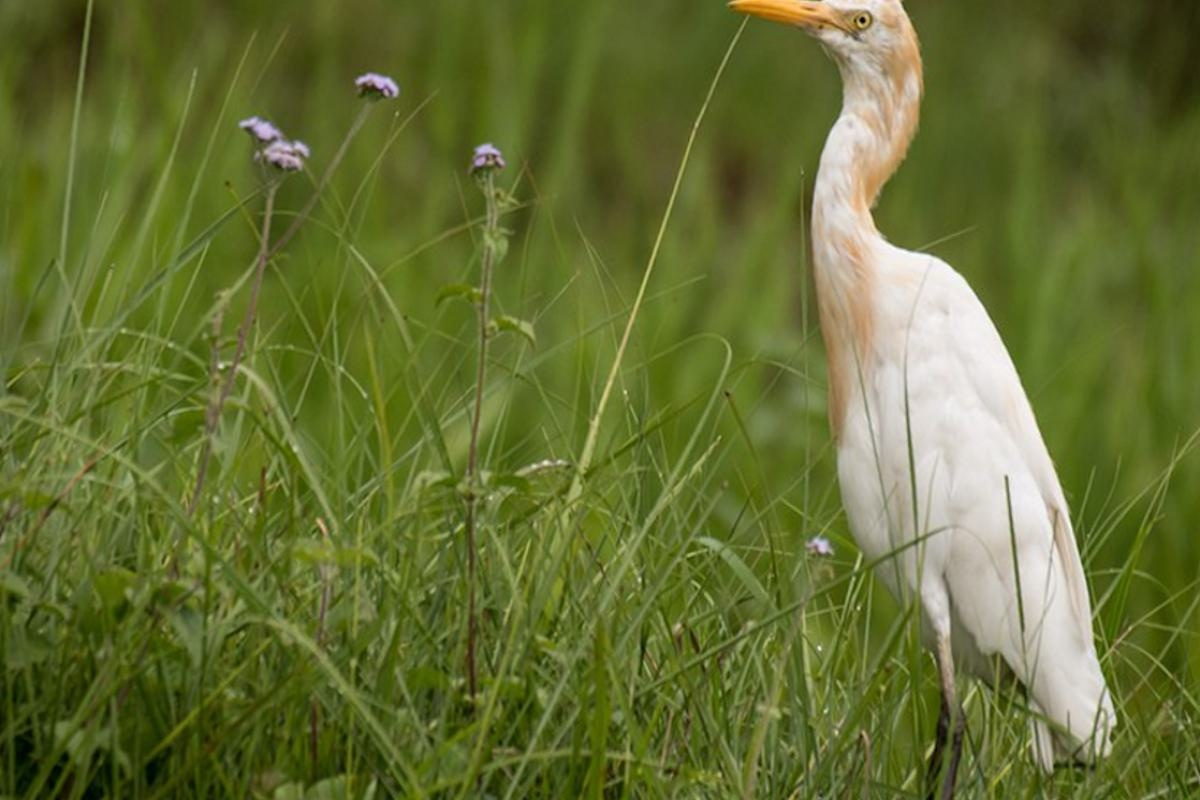egret: (674, 1, 1137, 753)
